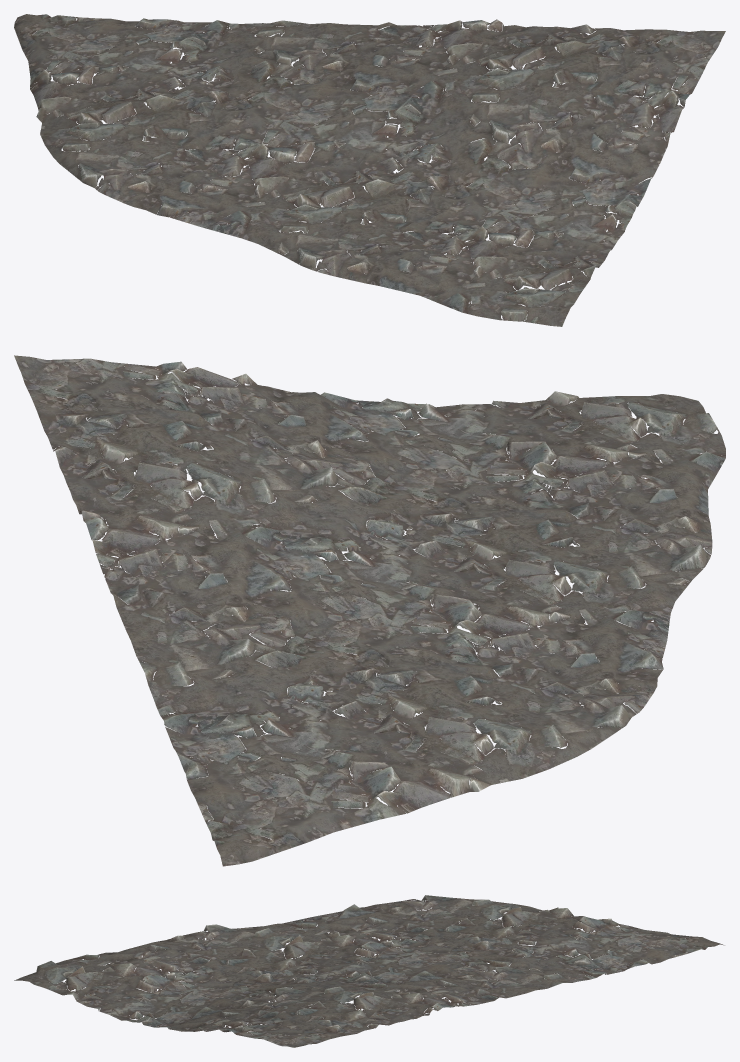
3 views of the same model, one above another, from view 1: azimuth 30°, elevation 25°; view 2: azimuth 150°, elevation 25°; view 3: azimuth 270°, elevation 25° (orthographic). The views are drawn at different scales.
Visible parts, largest first — view 1: SM_SaradominTemple_Rubble_02_v1_LOD0; view 2: SM_SaradominTemple_Rubble_02_v1_LOD0; view 3: SM_SaradominTemple_Rubble_02_v1_LOD0.
Boxes of the visible parts, x1=… form: SM_SaradominTemple_Rubble_02_v1_LOD0: x1=14, y1=14, x2=725, y2=326; SM_SaradominTemple_Rubble_02_v1_LOD0: x1=14, y1=355, x2=725, y2=866; SM_SaradominTemple_Rubble_02_v1_LOD0: x1=14, y1=895, x2=724, y2=1047.
Bounding box in the file's own units: 8.74 × 1.23 × 12.38.
Materials: 1 (1 with a texture image).
